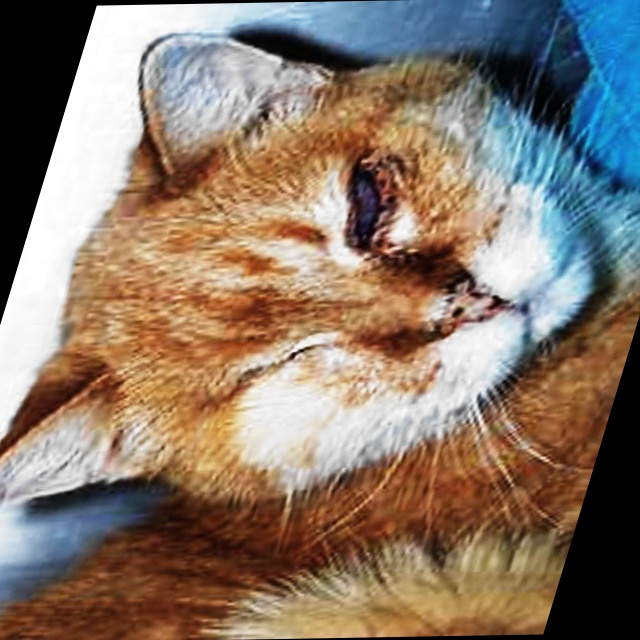eye_infection: (341, 160, 411, 241)
